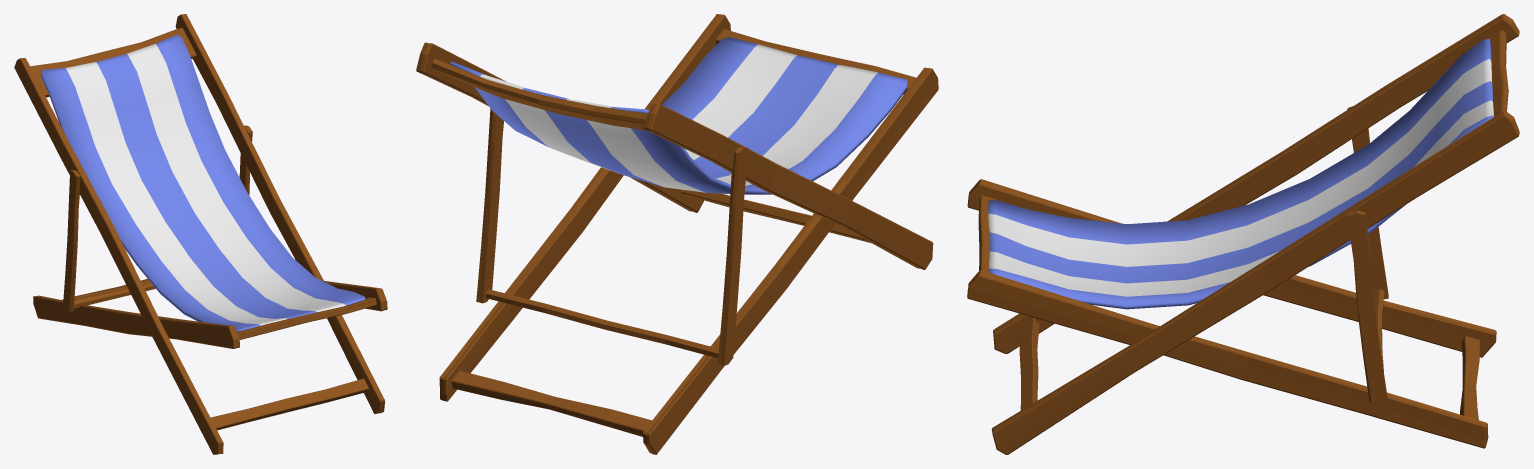
File: camilla.fbx
3 views of the same model, side by side, from view 1: azimuth 30°, elevation 25°; view 2: azimuth 150°, elevation 25°; view 3: azimuth 270°, elevation 25° (orthographic). The views are drawn at different scales.
Parts seen in each view (by area): view 1: Cube.004; view 2: Cube.004; view 3: Cube.004.
Boxes of the visible parts, <box> form: Cube.004: <box>14,14,387,454</box>; Cube.004: <box>416,14,938,454</box>; Cube.004: <box>967,14,1519,454</box>.
Size of the model in its own units: 83.46 by 117 by 172.
